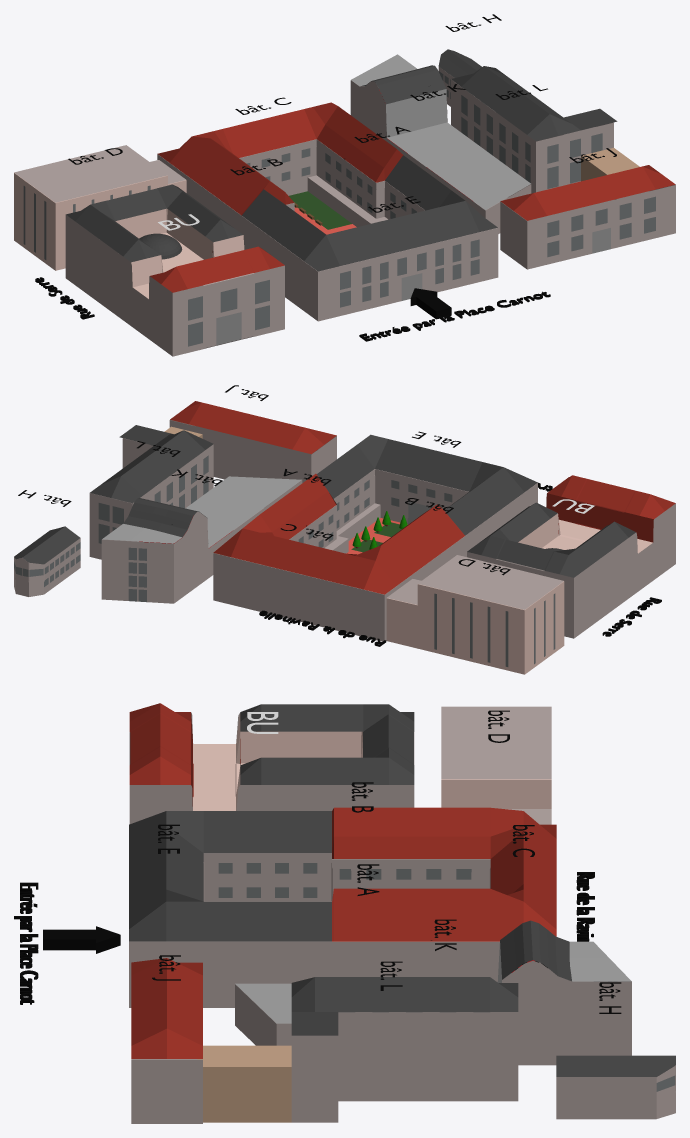
Rendered from bat10.glb.
3 renders of one model, top to bottom at view 1: azimuth 30°, elevation 25°; view 2: azimuth 150°, elevation 25°; view 3: azimuth 270°, elevation 25°, orthographic. The views are drawn at different scales.
Parts seen in each view (by area): view 1: toits, Bâtiment principal, Cube.001, Cube.005, Cube.006, Cube, Cube.004, sol fac, Geny.009, Cube.003; view 2: toits, Bâtiment principal, Cube, Cube.004, Cube.001, Cube.006, Cube.005, Cube.007, sol fac, Geny.011, Geny.012; view 3: toits, Cube.006, Bâtiment principal, Cube.004, Cube.001, Cube.007, Cube.005, Cube, Cube.003, Geny.009, Geny.011.
Boxes of the visible parts, bbox=[...] form: toits: bbox=[14, 49, 675, 298]; Bâtiment principal: bbox=[157, 139, 498, 321]; Cube.001: bbox=[65, 215, 284, 356]; Cube.005: bbox=[500, 184, 675, 269]; Cube.006: bbox=[451, 79, 648, 199]; Cube: bbox=[14, 172, 186, 270]; Cube.004: bbox=[350, 80, 531, 233]; sol fac: bbox=[289, 191, 356, 234]; Geny.009: bbox=[359, 291, 550, 341]; Cube.003: bbox=[410, 288, 451, 319]; toits: bbox=[14, 401, 675, 609]; Bâtiment principal: bbox=[213, 469, 537, 641]; Cube: bbox=[386, 581, 564, 674]; Cube.004: bbox=[101, 480, 302, 603]; Cube.001: bbox=[467, 494, 675, 638]; Cube.006: bbox=[89, 426, 213, 559]; Cube.005: bbox=[169, 420, 336, 482]; Cube.007: bbox=[14, 538, 80, 596]; sol fac: bbox=[346, 511, 407, 554]; Geny.011: bbox=[259, 610, 386, 646]; Geny.012: bbox=[602, 597, 661, 636]; toits: bbox=[129, 703, 675, 1076]; Cube.006: bbox=[197, 1012, 518, 1122]; Bâtiment principal: bbox=[129, 853, 499, 1007]; Cube.004: bbox=[235, 961, 631, 1065]; Cube.001: bbox=[129, 712, 414, 823]; Cube.007: bbox=[556, 1065, 675, 1119]; Cube.005: bbox=[131, 1059, 202, 1123]; Cube: bbox=[441, 779, 551, 808]; Cube.003: bbox=[43, 926, 120, 953]; Geny.009: bbox=[14, 882, 38, 1004]; Geny.011: bbox=[576, 872, 594, 941].
Size of the model in its own units: 18.35 by 2.69 by 14.54.
